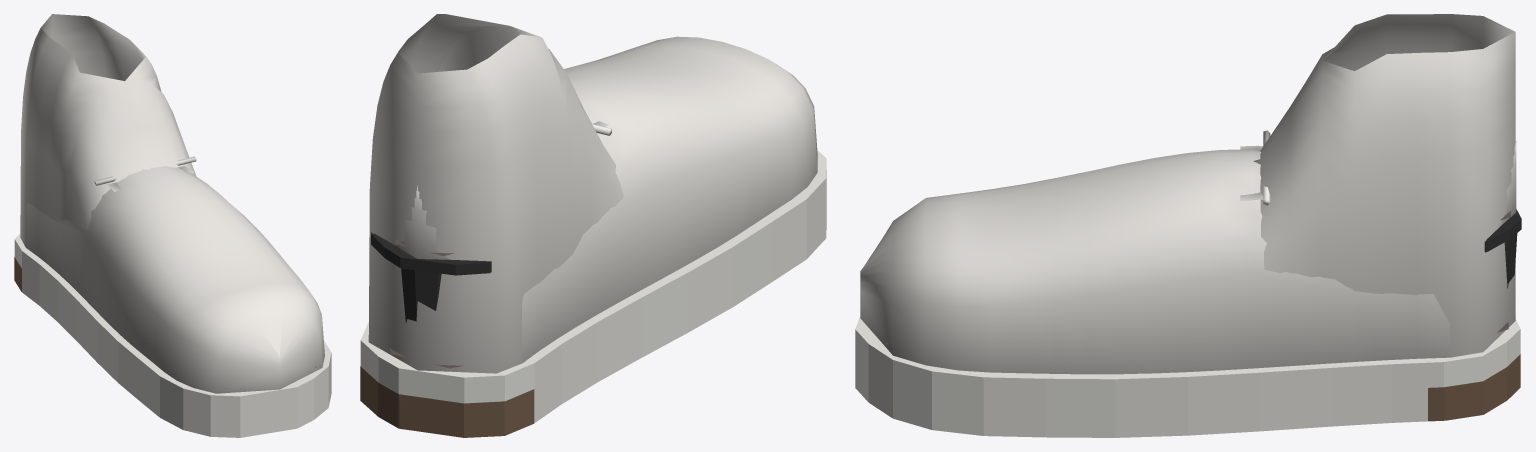
File: zapatos.glb
3 views of the same model, side by side, from view 1: azimuth 30°, elevation 25°; view 2: azimuth 150°, elevation 25°; view 3: azimuth 270°, elevation 25° (orthographic). The views are drawn at different scales.
Visible parts, largest first — view 1: sneaker_cloth, boot_cloth, sneaker_sole; view 2: boot_cloth, sneaker_cloth, sneaker_sole, boot_sole, pump_sole, pump_cloth; view 3: sneaker_cloth, boot_cloth, sneaker_sole, boot_sole, pump_sole.
Boxes of the visible parts, box(x1,y1,x2,y2) form: sneaker_cloth: box(26, 165, 324, 393); boot_cloth: box(20, 14, 196, 247); sneaker_sole: box(14, 234, 331, 437); boot_cloth: box(368, 14, 623, 373); sneaker_cloth: box(522, 36, 817, 363); sneaker_sole: box(360, 150, 826, 422); boot_sole: box(360, 366, 534, 437); pump_sole: box(371, 232, 491, 322); pump_cloth: box(395, 185, 448, 259); sneaker_cloth: box(860, 145, 1450, 374); boot_cloth: box(1257, 14, 1515, 357); sneaker_sole: box(855, 316, 1520, 437); boot_sole: box(1428, 354, 1520, 421); pump_sole: box(1484, 209, 1521, 288).
Size of the model in its own units: 0.116 by 0.166 by 0.288.
